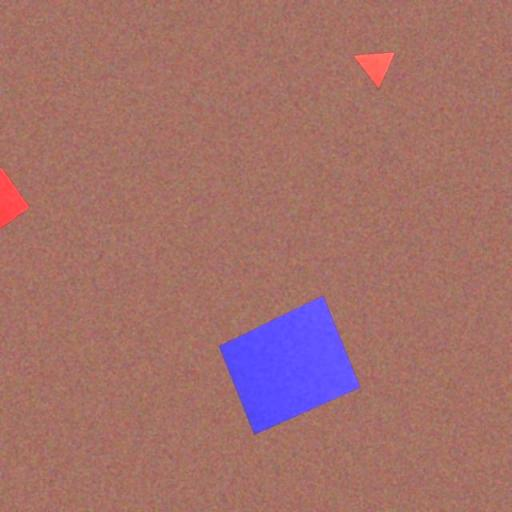BLUE_SQUARE: (218, 295, 361, 436)
RED_SQUARE: (0, 166, 30, 239)
